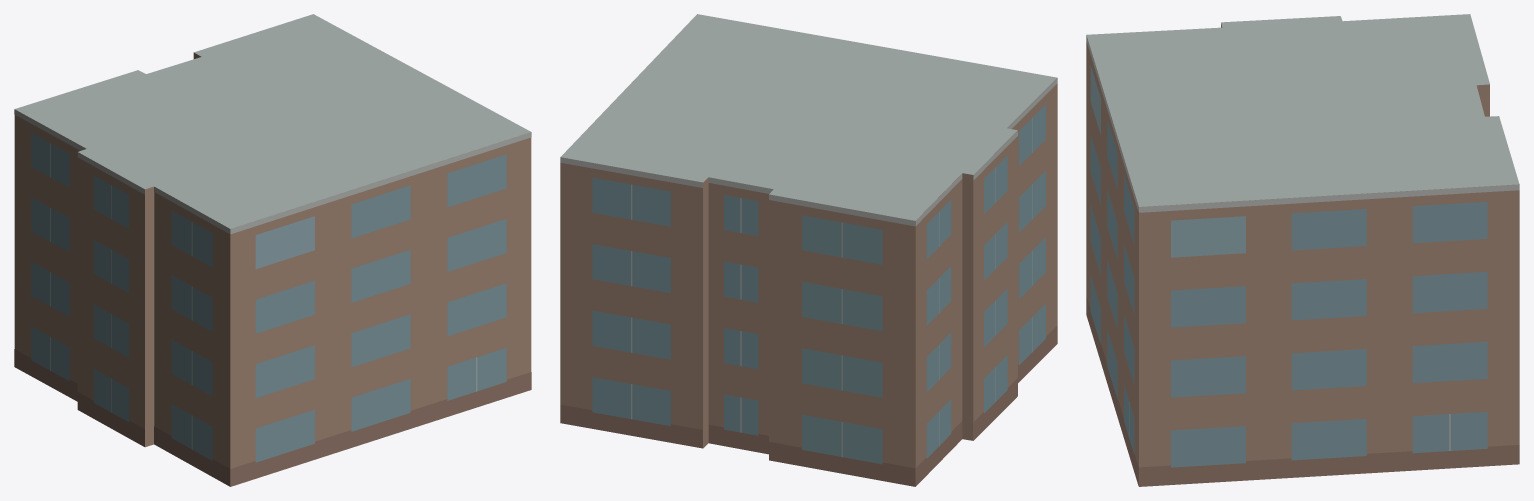
File: survey-upis-32932928.glb
3 views of the same model, side by side, from view 1: azimuth 30°, elevation 25°; view 2: azimuth 150°, elevation 25°; view 3: azimuth 270°, elevation 25° (orthographic). The views are drawn at different scales.
Visible parts, largest first — view 1: survey-upis-32932928.tmp; view 2: survey-upis-32932928.tmp; view 3: survey-upis-32932928.tmp.
Boxes of the visible parts, x1,y1,x2,y2 form: survey-upis-32932928.tmp: (14, 14, 531, 486); survey-upis-32932928.tmp: (560, 14, 1057, 486); survey-upis-32932928.tmp: (1086, 14, 1519, 486).
Bounding box in the file's own units: 17.31 × 11.7 × 16.42.
